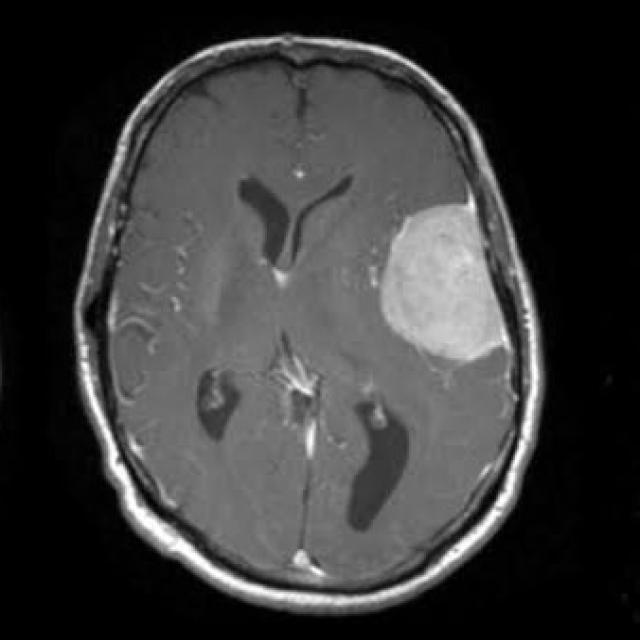brain_tumor: (380, 205, 508, 361)
